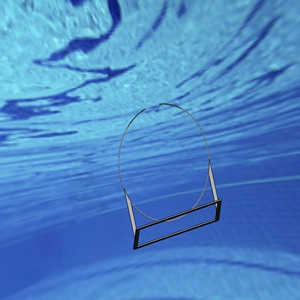circle: (117, 102, 222, 250)
